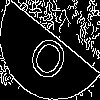O: (25, 25, 76, 86)
